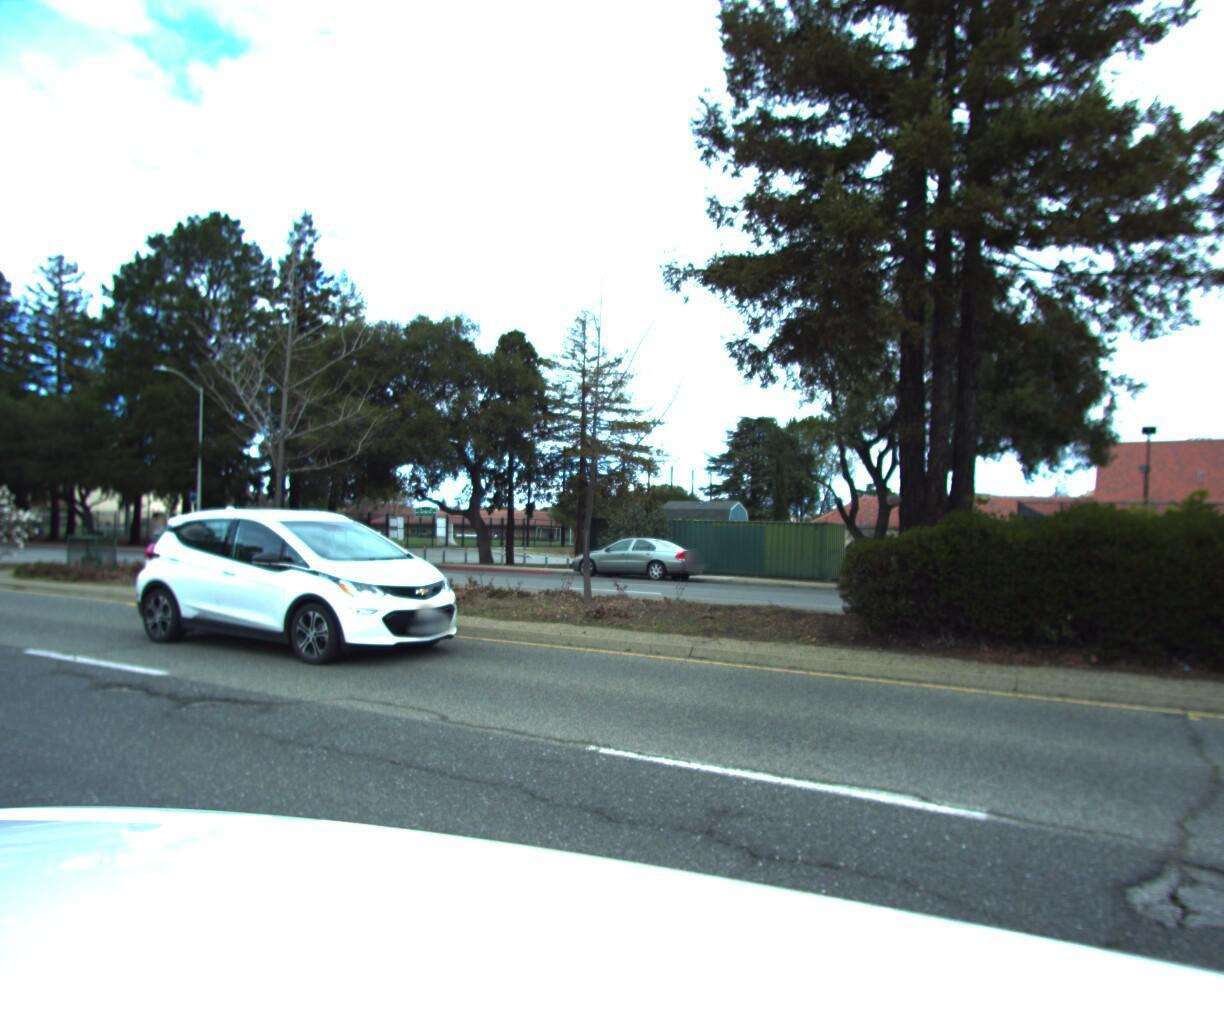car: (106, 499, 483, 672), (559, 530, 708, 581)
